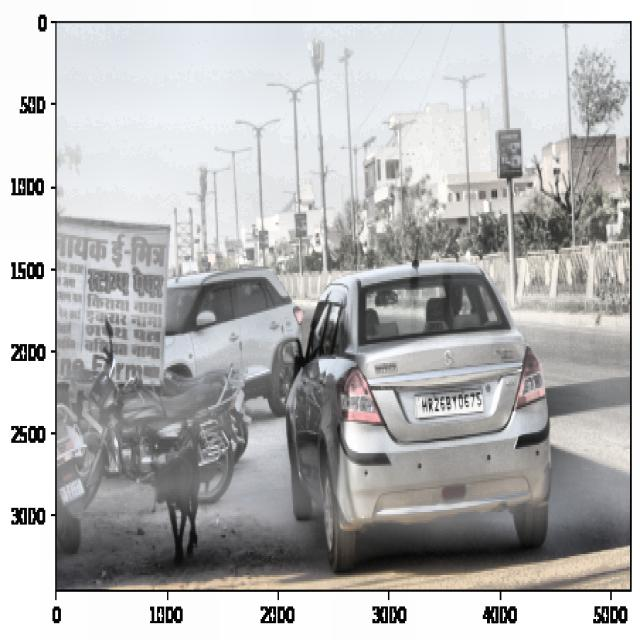license_plate: (416, 389, 486, 420)
